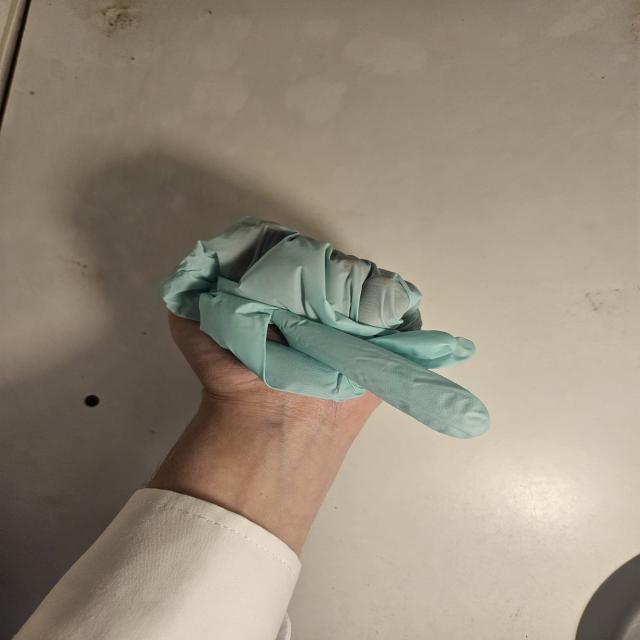glove_partial: (160, 221, 493, 438)
